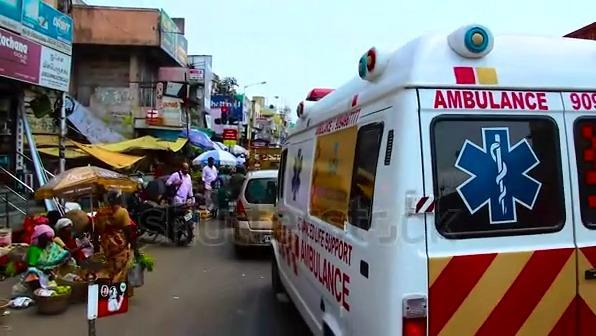Ambulance: (452, 124, 547, 228), (296, 236, 354, 318), (429, 88, 556, 118)
